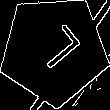L_SW: (26, 22, 82, 78)
